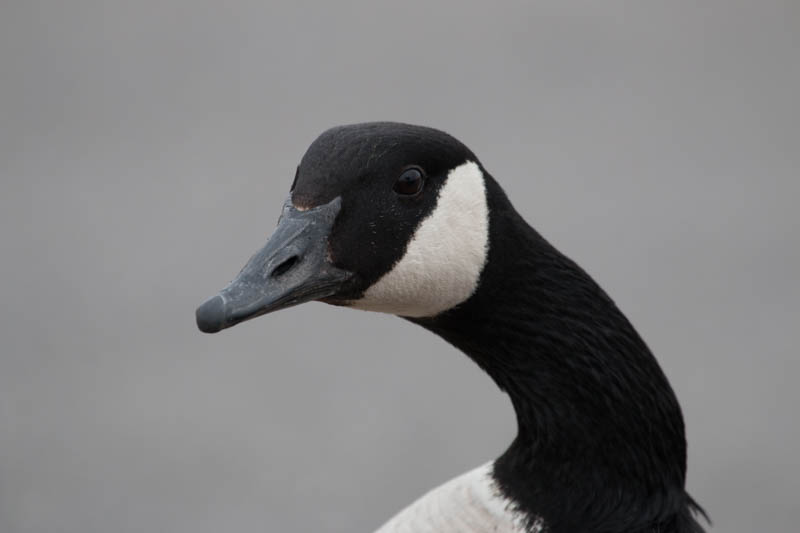goose-head: (195, 120, 512, 335)
